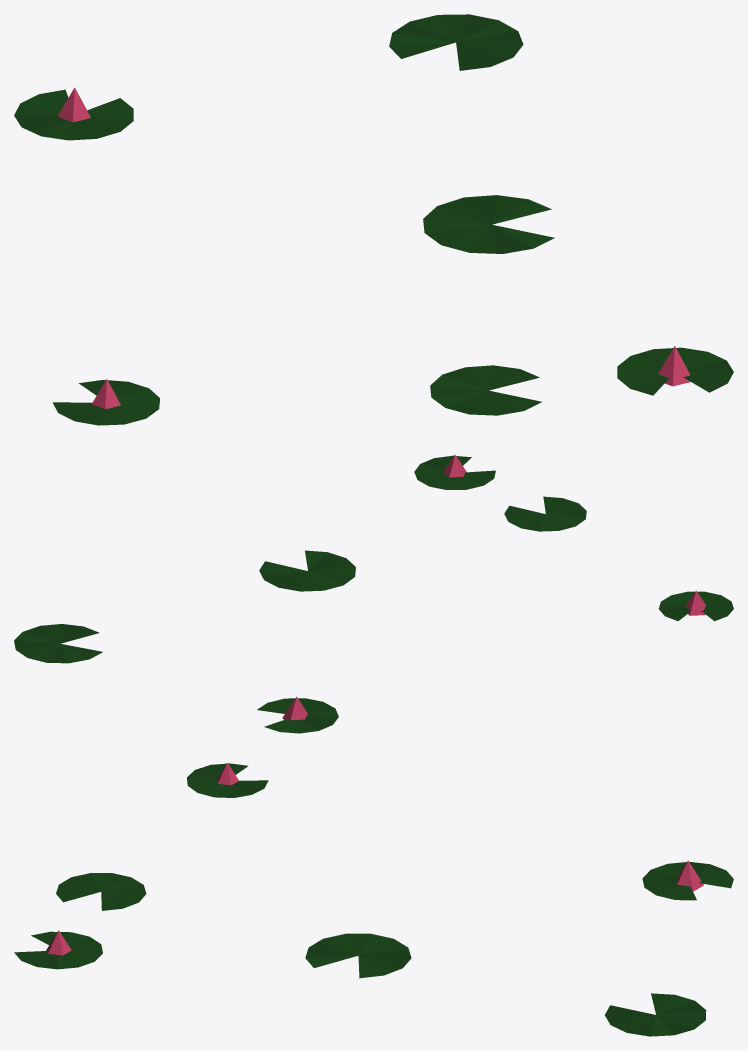
Rendered from MODULE_STEPWELL_WATER_LOTUS.fbx.
3 views of the same model, one above another, from view 1: azimuth 30°, elevation 25°; view 2: azimuth 150°, elevation 25°; view 3: azimuth 270°, elevation 25° (orthographic). The views are drawn at different scales.
Parts seen in each view (by area): view 1: MODULE_STEPWELL_WATER_LOTUS_DECOR__export; view 2: MODULE_STEPWELL_WATER_LOTUS_DECOR__export; view 3: MODULE_STEPWELL_WATER_LOTUS_DECOR__export.
Boxes of the visible parts, x1,y1,x2,y2 form: MODULE_STEPWELL_WATER_LOTUS_DECOR__export: (14,14,733,425); MODULE_STEPWELL_WATER_LOTUS_DECOR__export: (14,454,733,733); MODULE_STEPWELL_WATER_LOTUS_DECOR__export: (14,762,733,1036).
Bounding box in the file's own units: 43.29 × 1.86 × 48.22.
